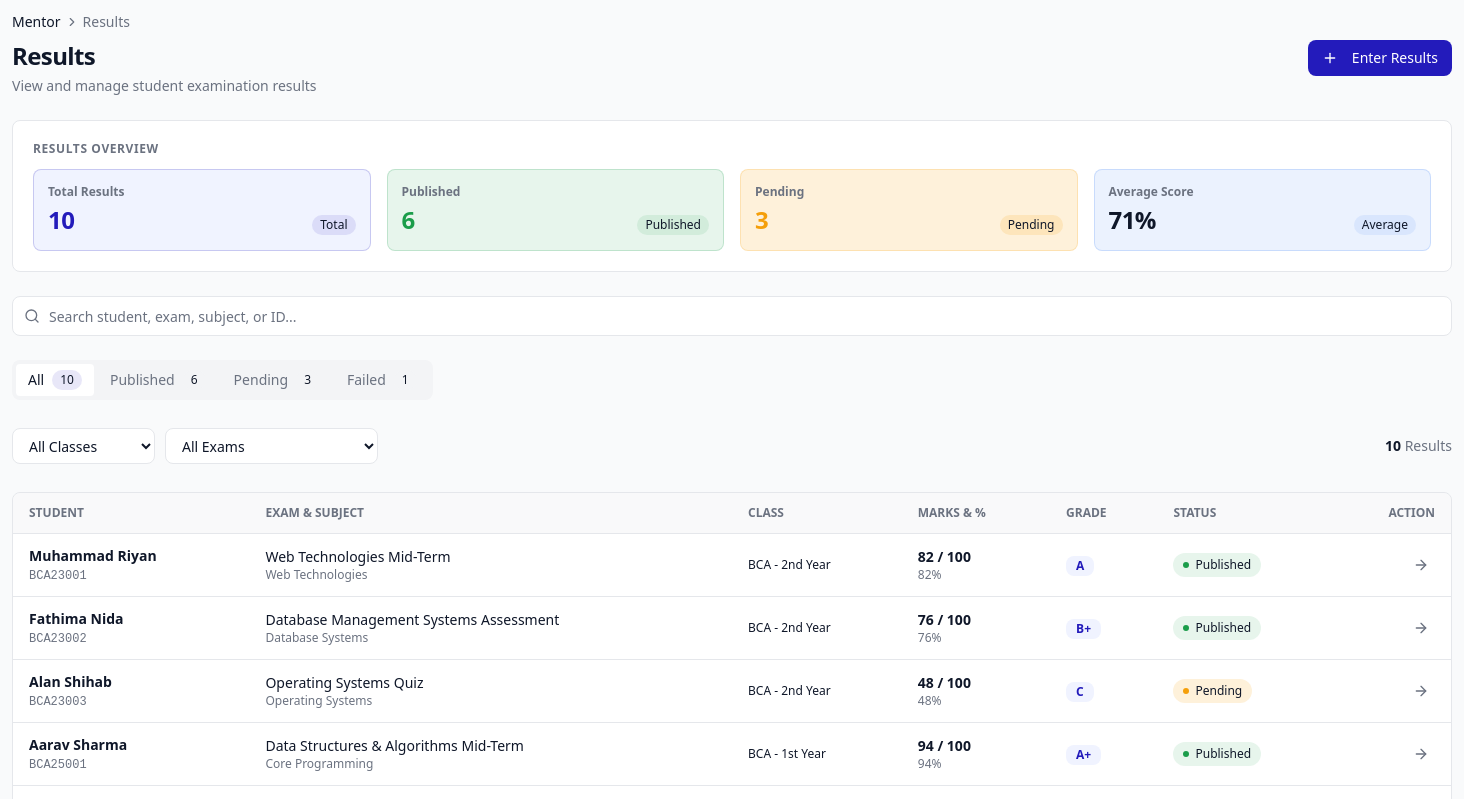
Mentor Results Page › filters results by exam dropdown selection
The width and height of the screenshot is (1464, 799).
Select "Database Systems" in the 2nd dropdown: (272, 446) [165,428,378,464]
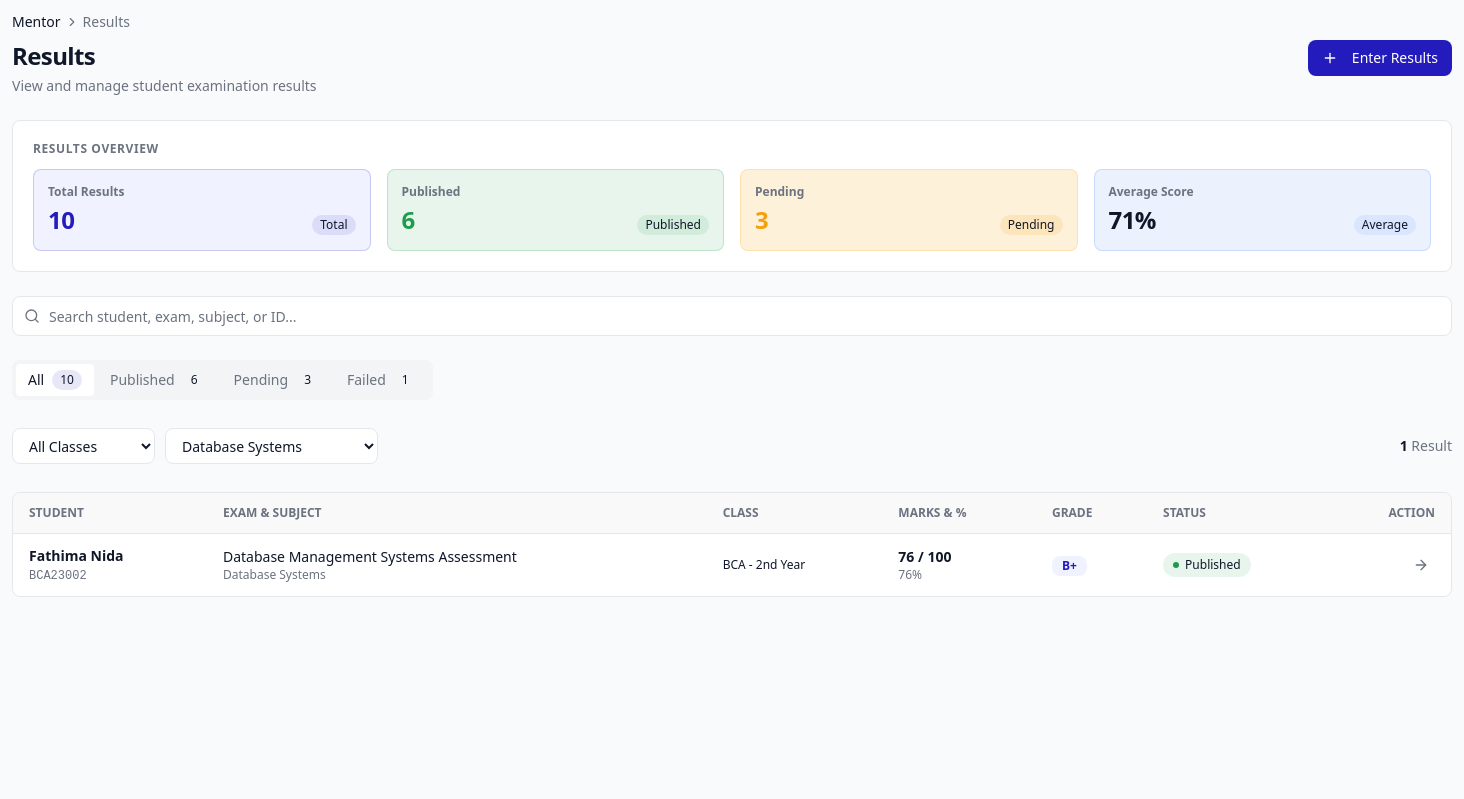
Expected: the text "Fathima Nida" is shown, [29,546,124,565]
Expected: the text "Muhammad Riyan" is gone
